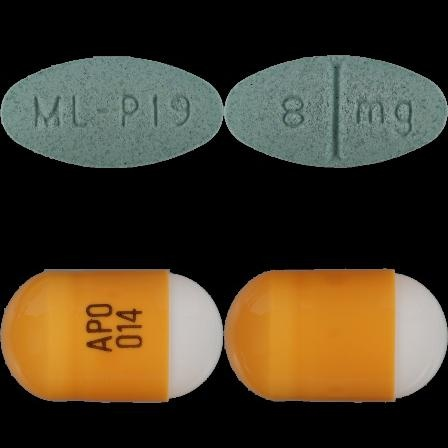60429-956: (0, 0, 224, 224)
